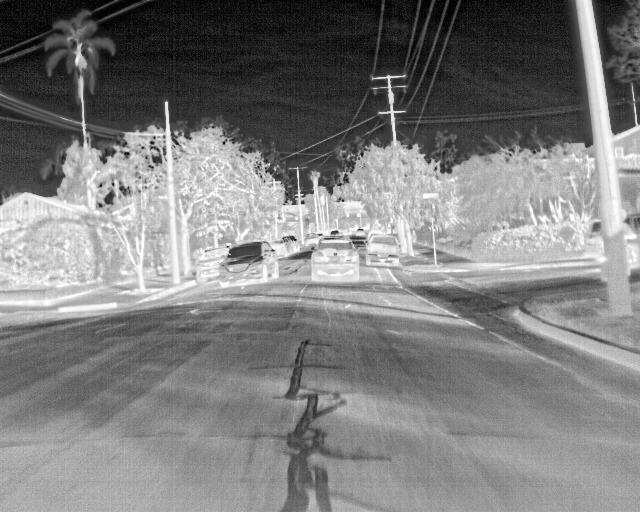car: (217, 241, 276, 289), (310, 234, 359, 283), (195, 242, 230, 281), (367, 234, 400, 267), (271, 237, 300, 257), (302, 233, 316, 249), (366, 230, 379, 242), (354, 226, 365, 238), (329, 227, 341, 237)
